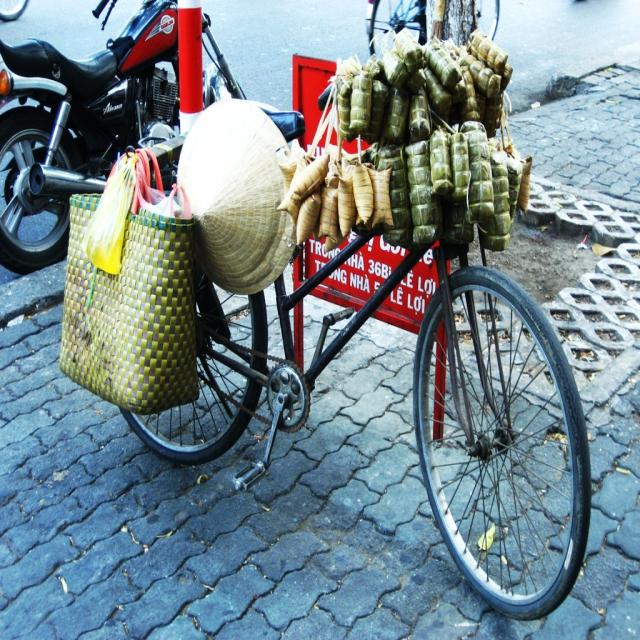Motorbikes: (3, 1, 210, 282)
